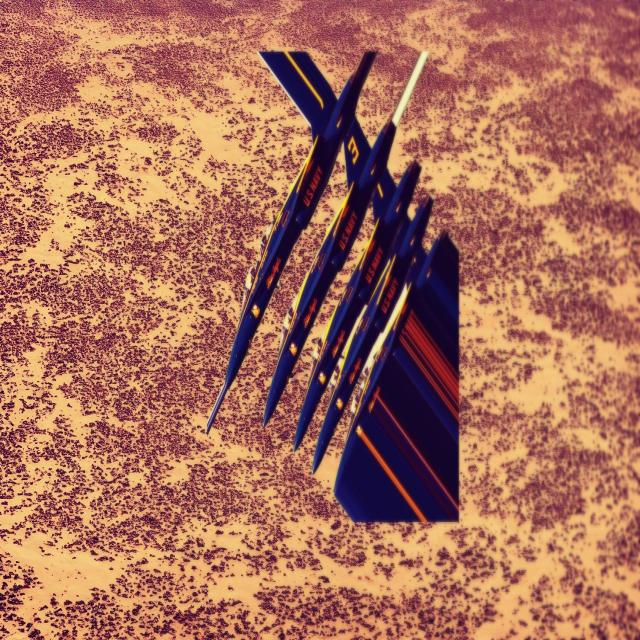airplane: (205, 47, 459, 521)
